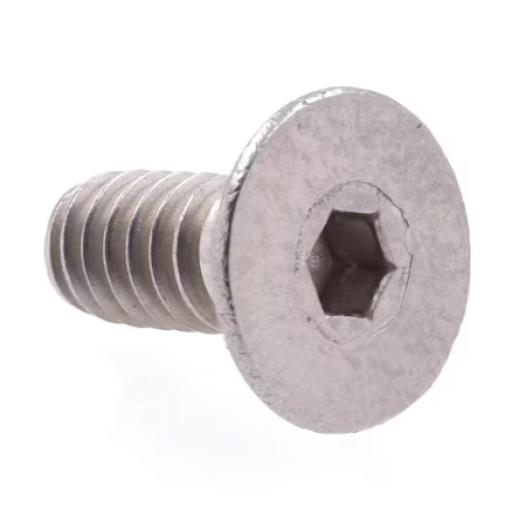Hex-Allen: (216, 83, 473, 434)
